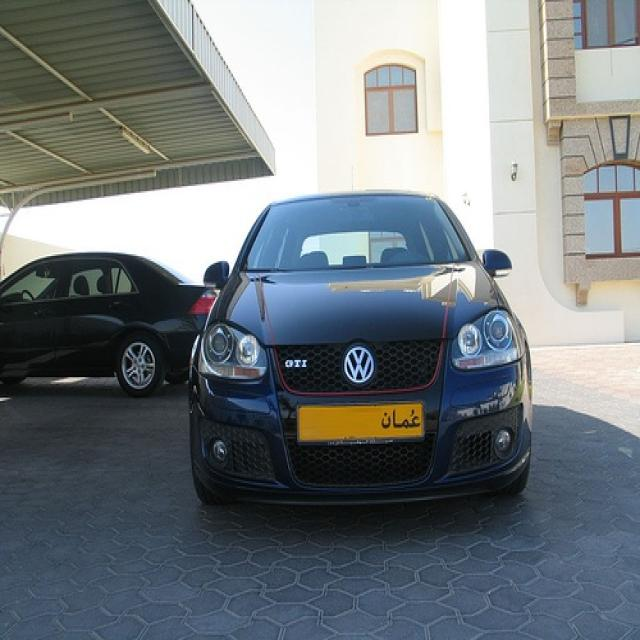car: (189, 190, 534, 510), (0, 249, 219, 391)
